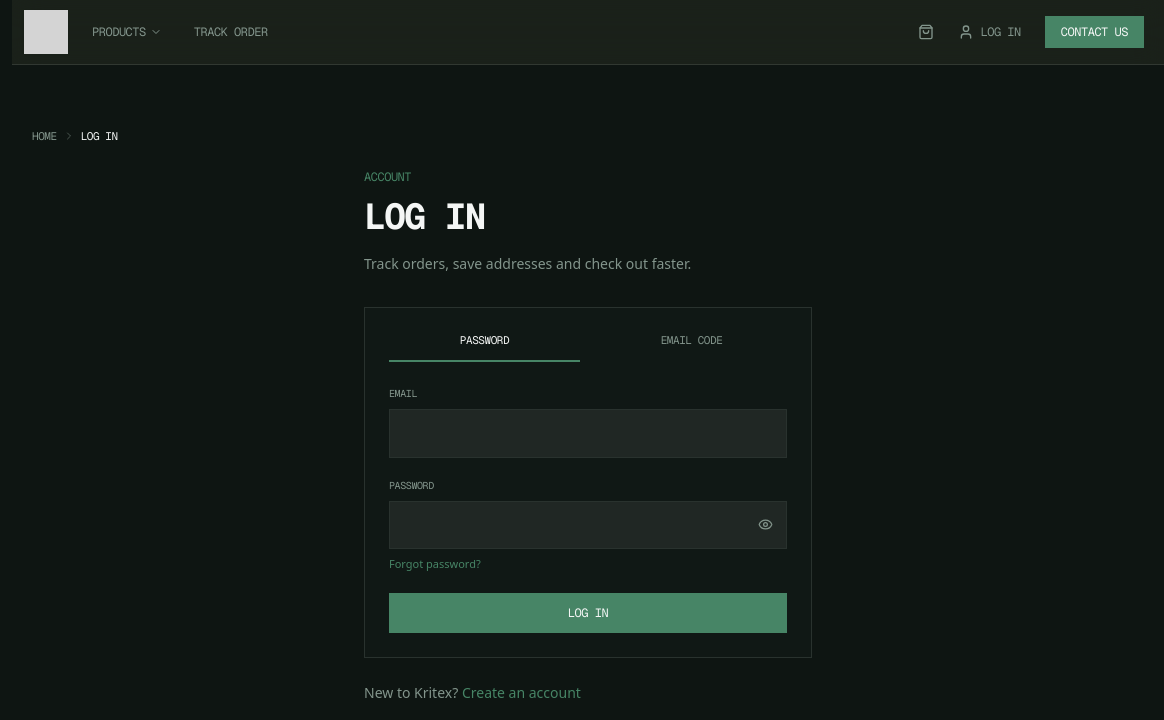
login › signs in with a password, returns to next and refetches the (merged) cart
Expected: the heading "Log In" is shown, x1=364 y1=192 x2=485 y2=240
In the field labelled "Email": (588, 434) x1=389 y1=409 x2=787 y2=458, type "customer@example.com"
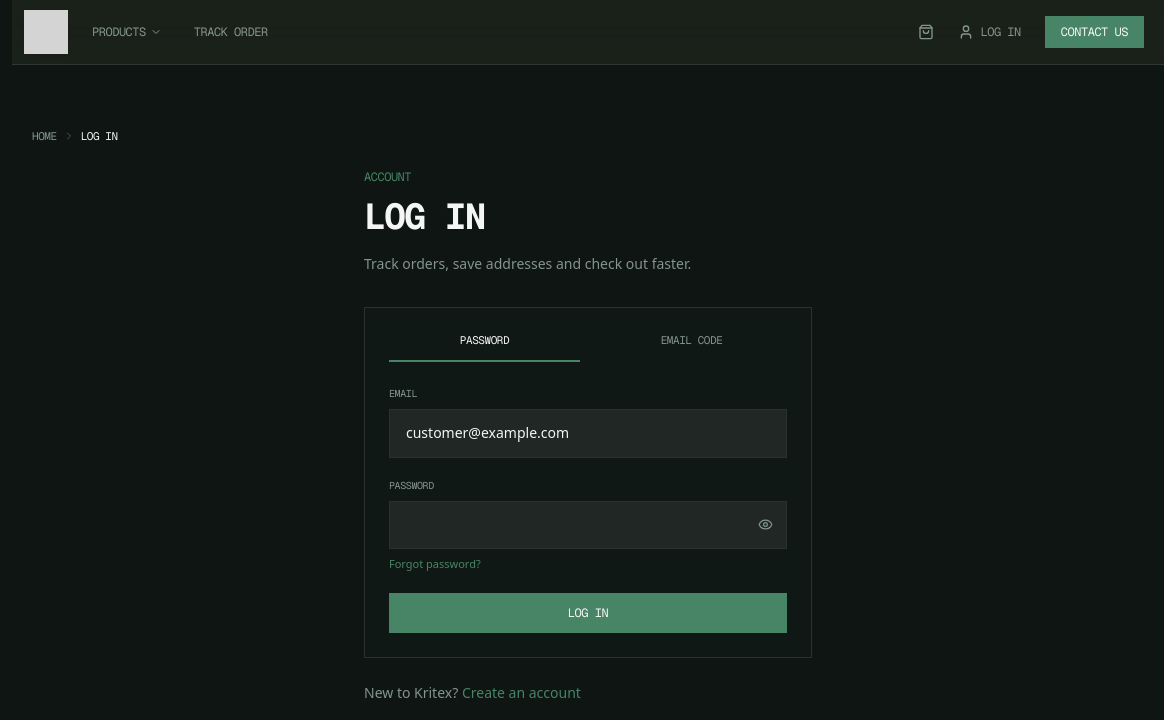
In the password field labelled "Password": (588, 525) x1=389 y1=501 x2=787 y2=549, type "wrong"
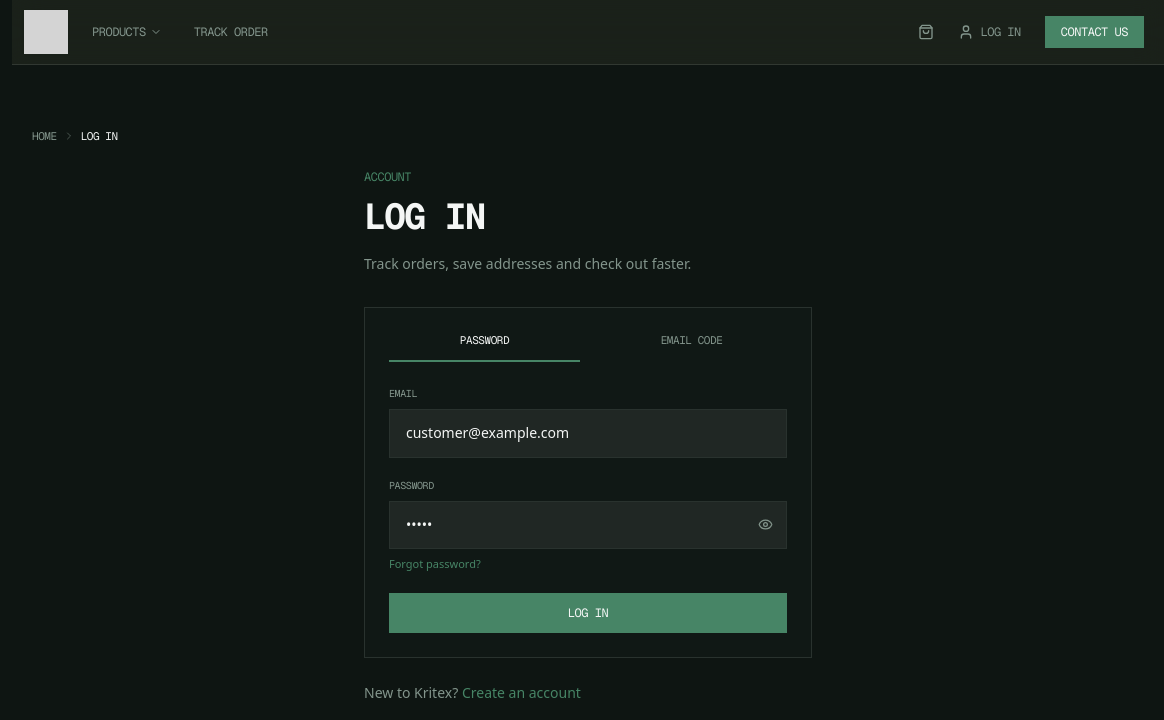
Click the button "Log In": click(588, 613) x1=389 y1=593 x2=787 y2=633
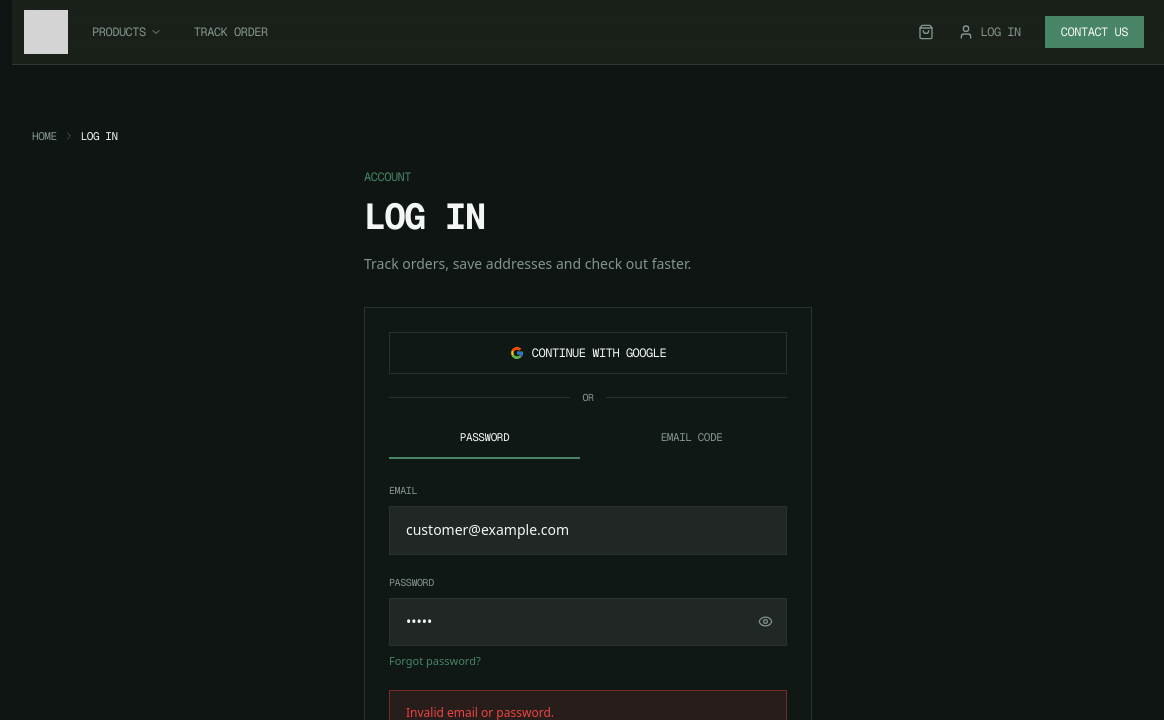
In the password field labelled "Password": (588, 622) x1=389 y1=598 x2=787 y2=646, type "password123"
(page scrolled)
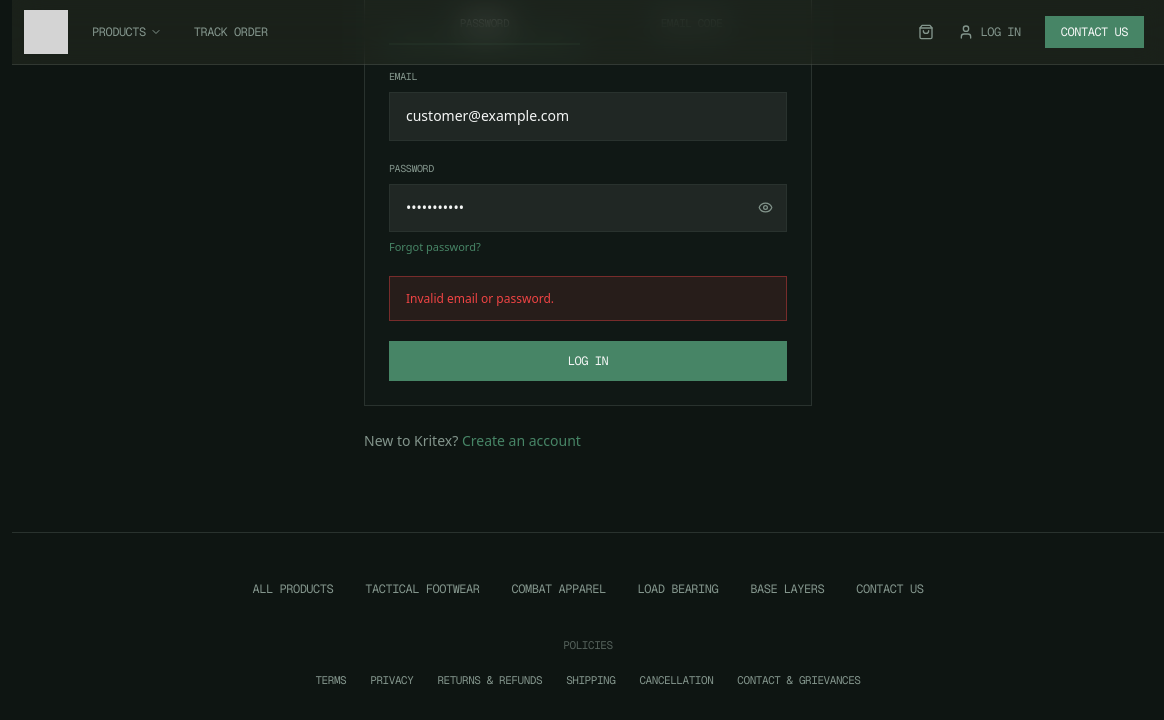
Click the button "Log In": click(588, 361) x1=389 y1=341 x2=787 y2=381
(page scrolled)
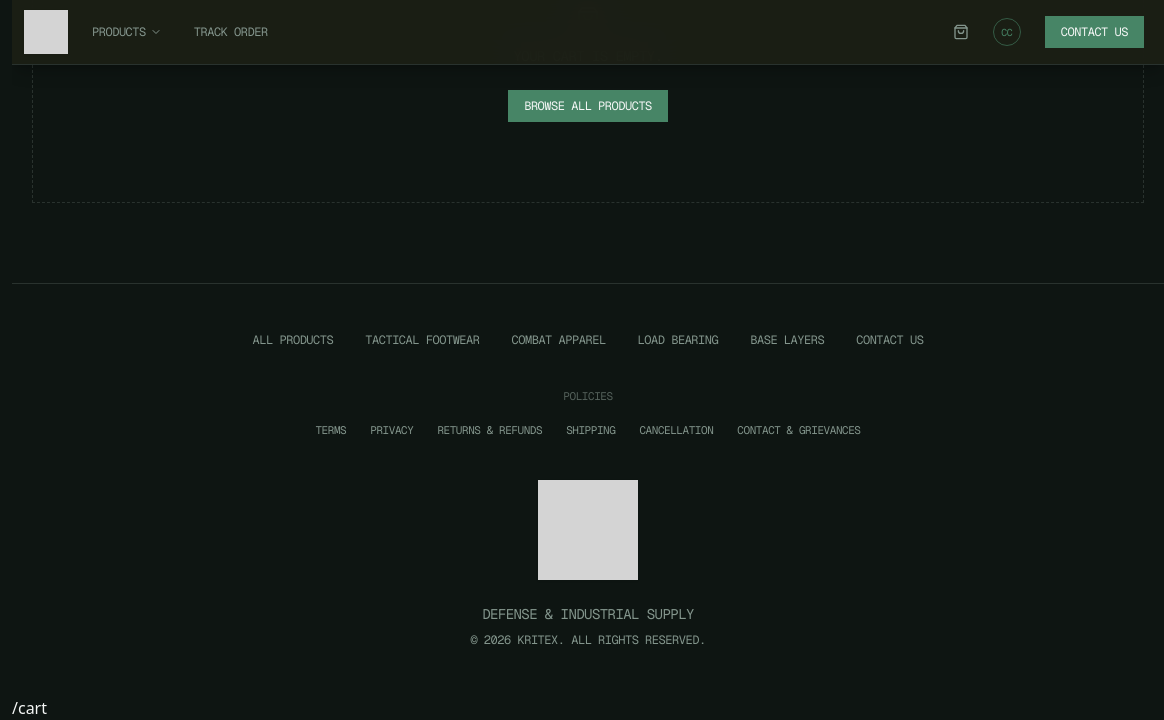
Expected: the text with test id "location" reads "/cart", x1=12 y1=697 x2=47 y2=719
